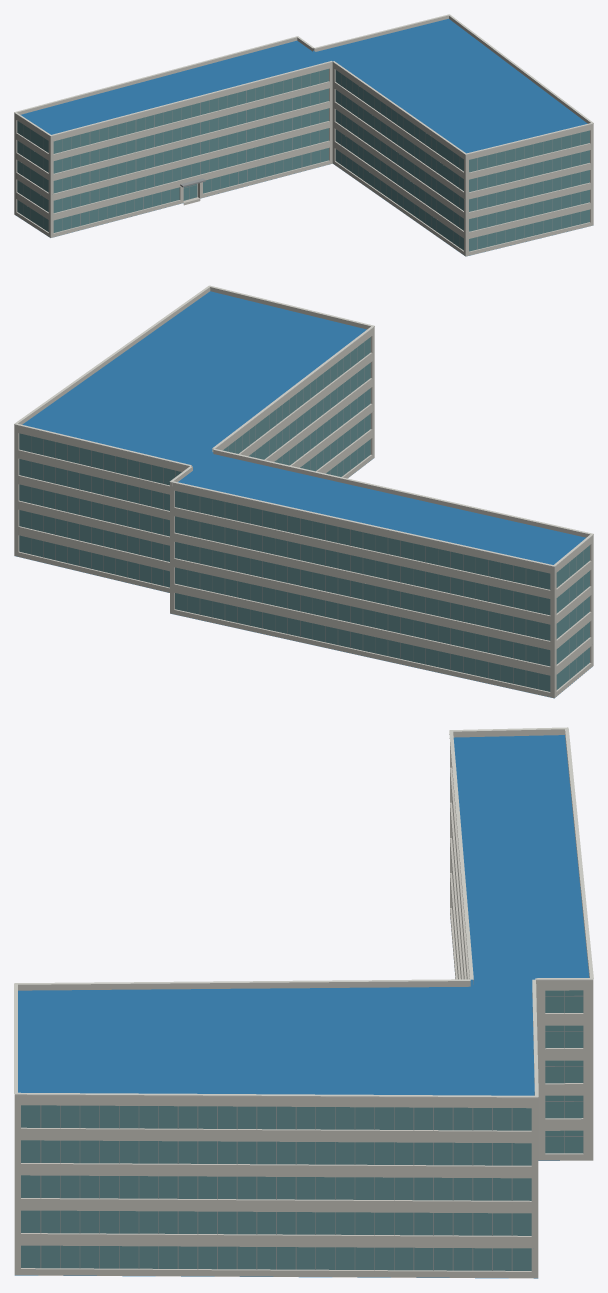
The picture shows the model from 3 angles, top to bottom: view 1: azimuth 30°, elevation 25°; view 2: azimuth 150°, elevation 25°; view 3: azimuth 270°, elevation 25°; orthographic projection. The views are drawn at different scales.
Visible parts, largest first — view 1: nine__glass, nine__roof, nine__wall, nine__parapet, nine__frame, nine__trim; view 2: nine__glass, nine__roof, nine__wall, nine__parapet, nine__frame, nine__trim; view 3: nine__roof, nine__glass, nine__wall, nine__parapet, nine__trim, nine__frame.
Part boxes in pixels (<box>): nine__glass: <box>17,69,589,251</box>; nine__roof: <box>21,18,587,255</box>; nine__wall: <box>14,64,593,256</box>; nine__parapet: <box>14,15,593,157</box>; nine__frame: <box>23,71,580,249</box>; nine__trim: <box>14,14,593,154</box>; nine__glass: <box>19,337,589,691</box>; nine__roof: <box>16,291,590,698</box>; nine__wall: <box>14,330,593,698</box>; nine__parapet: <box>14,287,593,570</box>; nine__frame: <box>31,342,583,689</box>; nine__trim: <box>14,285,593,567</box>; nine__roof: <box>15,735,589,1278</box>; nine__glass: <box>21,990,583,1270</box>; nine__wall: <box>14,743,593,1278</box>; nine__parapet: <box>14,729,593,1102</box>; nine__trim: <box>14,727,593,1098</box>; nine__frame: <box>40,990,583,1270</box>.
Size of the model in its own units: 81.43 by 19 by 53.96.
